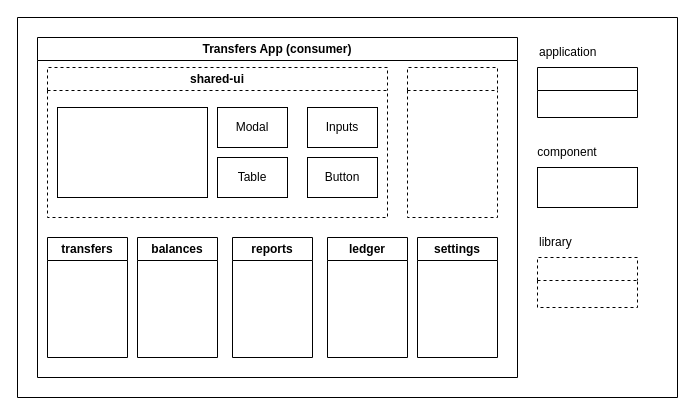
The diagram is 695 pixels wide and 415 high, and some of its shapes have lost their labels. The box of each missing label's shape, as (x1, y1, x2, y2) in pixels:
Analytics Charts: (56, 106, 208, 198)
shared-styles: (406, 66, 498, 218)
